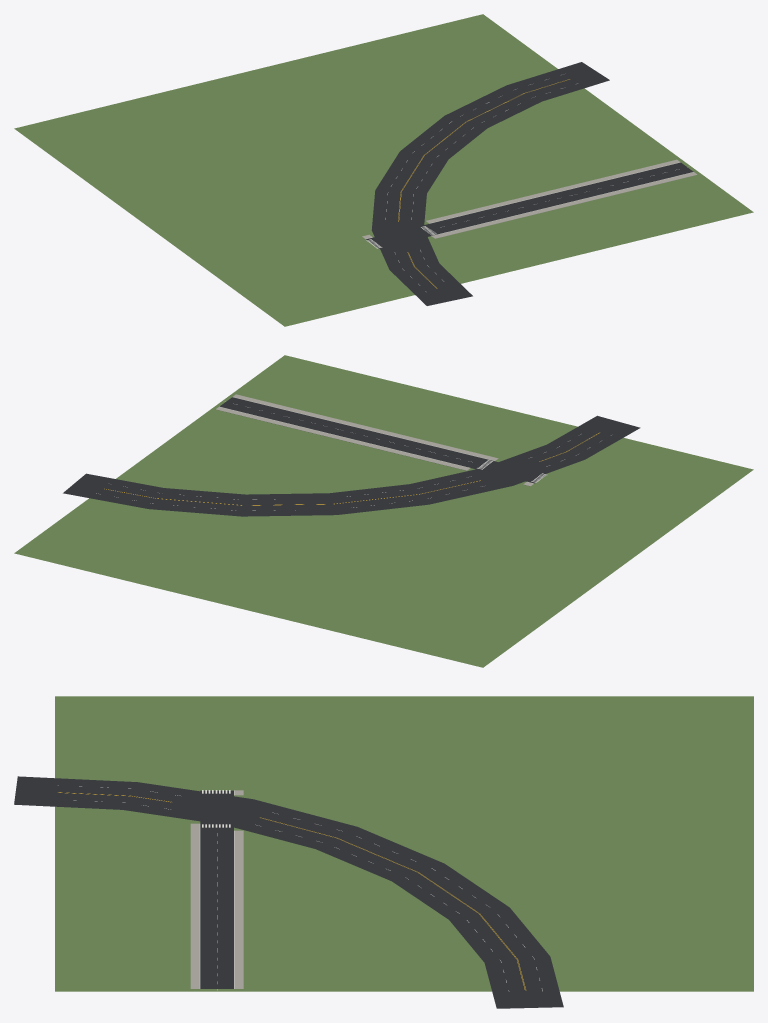
File: Ground_0_7.fbx
3 views of the same model, one above another, from view 1: azimuth 30°, elevation 25°; view 2: azimuth 150°, elevation 25°; view 3: azimuth 270°, elevation 25° (orthographic). The views are drawn at different scales.
Parts seen in each view (by area): view 1: Ground_0_7; view 2: Ground_0_7; view 3: Ground_0_7.
Boxes of the visible parts, <box> form: Ground_0_7: <box>14,14,753,326</box>; Ground_0_7: <box>14,355,753,667</box>; Ground_0_7: <box>14,696,753,1008</box>.
Bounding box in the file's own units: 265 × 0.1 × 265.
